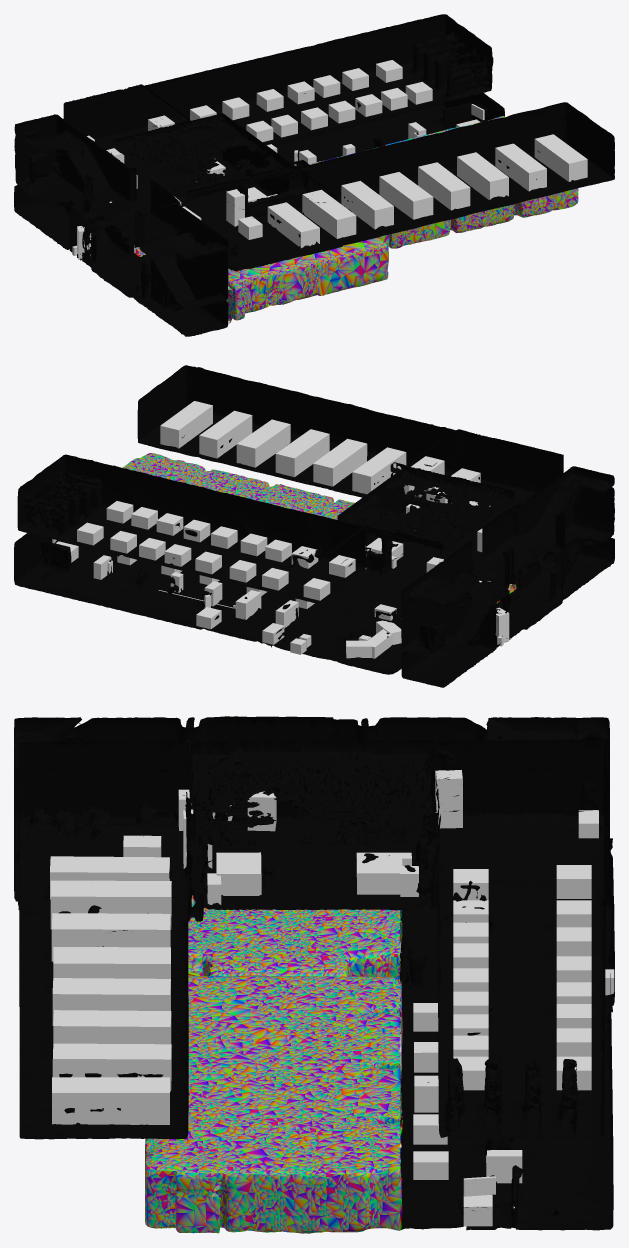
File: Biblioteca.fbx
3 renders of one model, top to bottom at view 1: azimuth 30°, elevation 25°; view 2: azimuth 150°, elevation 25°; view 3: azimuth 270°, elevation 25°, orthographic. The views are drawn at different scales.
Visible parts, largest first — view 1: LobbySceneMeshOverride [GLOBAL_MESH_0086_V], Parent.129, Parent.125, Parent.134, Parent.139, Parent.138, Parent.120, Parent.141, Parent.145, Parent.162, Cube.004, Cube.012 (+11 smaller); view 2: LobbySceneMeshOverride [GLOBAL_MESH_0086_V], Parent.120, Parent.134, Parent.125, Parent.138, Parent.141, Parent.139, Parent.129, Cube.002, Cube, Cube.004, Cube.013 (+15 smaller); view 3: LobbySceneMeshOverride [GLOBAL_MESH_0086_V], Parent.138, Parent.139, Parent.129, Parent.120, Parent.134, Parent.141, Parent.125, Parent.145, Parent.156, Parent.163, Parent.146 (+26 smaller).
Boxes of the visible parts, <box> form: LobbySceneMeshOverride [GLOBAL_MESH_0086_V]: <box>14,14,614,336</box>; Parent.129: <box>302,189,356,238</box>; Parent.125: <box>379,172,433,219</box>; Parent.134: <box>418,162,470,210</box>; Parent.139: <box>341,181,393,229</box>; Parent.138: <box>534,134,587,181</box>; Parent.120: <box>457,152,508,199</box>; Parent.141: <box>495,143,546,191</box>; Parent.145: <box>267,202,319,248</box>; Parent.162: <box>226,189,244,226</box>; Cube.004: <box>287,81,314,104</box>; Cube.012: <box>328,100,355,123</box>; LobbySceneMeshOverride [GLOBAL_MESH_0086_V]: <box>14,365,614,687</box>; Parent.120: <box>236,419,290,467</box>; Parent.134: <box>275,429,329,477</box>; Parent.125: <box>313,438,367,486</box>; Parent.138: <box>160,401,212,448</box>; Parent.141: <box>199,410,252,458</box>; Parent.139: <box>352,447,406,494</box>; Parent.129: <box>403,456,444,497</box>; Cube.002: <box>229,560,256,582</box>; Cube: <box>303,578,330,600</box>; Cube.004: <box>164,544,191,566</box>; Cube.013: <box>156,513,183,535</box>; LobbySceneMeshOverride [GLOBAL_MESH_0086_V]: <box>14,716,614,1233</box>; Parent.138: <box>52,1077,169,1124</box>; Parent.139: <box>51,913,170,961</box>; Parent.129: <box>50,880,171,929</box>; Parent.120: <box>53,1010,171,1044</box>; Parent.134: <box>52,978,170,1025</box>; Parent.141: <box>52,1043,171,1091</box>; Parent.125: <box>53,947,170,978</box>; Parent.145: <box>50,856,169,899</box>; Parent.156: <box>216,852,261,895</box>; Parent.163: <box>356,852,402,894</box>; Parent.146: <box>435,770,462,828</box>.
Size of the model in its own units: 3049 by 661 by 2099.
